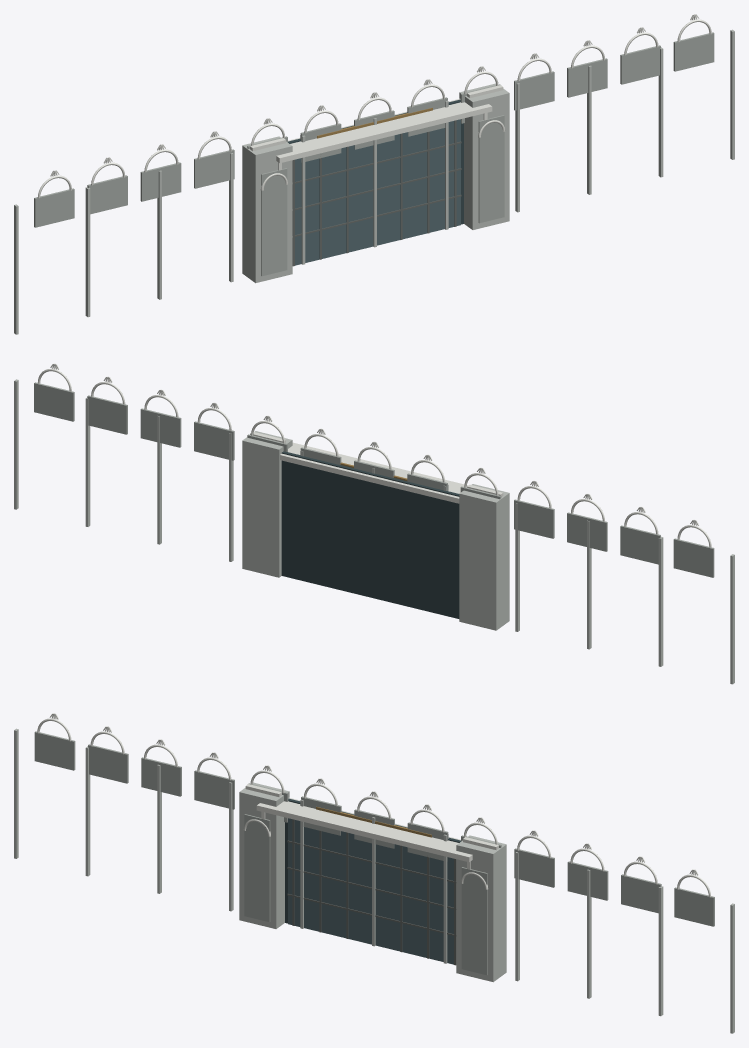
3 views of the same model, one above another, from view 1: azimuth 30°, elevation 25°; view 2: azimuth 150°, elevation 25°; view 3: azimuth 330°, elevation 25° (orthographic).
Bounding box in the file's own units: 3.13 × 0.639 × 0.1256.
